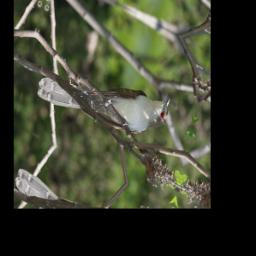Cuckoo: (35, 30, 175, 163)
